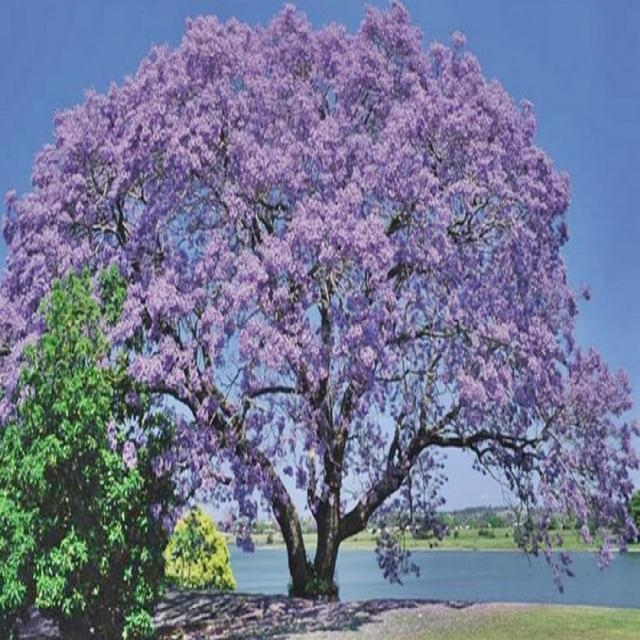tree: (0, 1, 636, 560)
